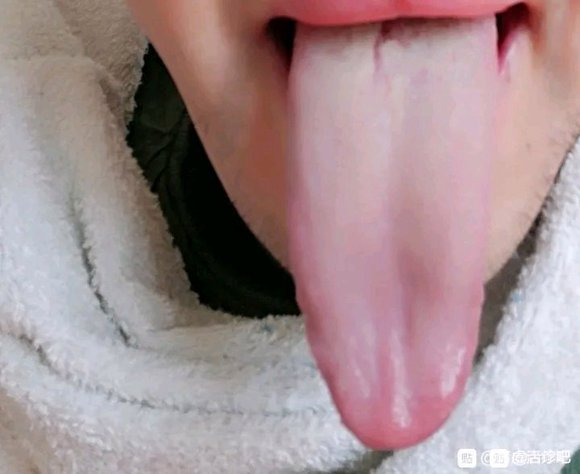chihenshe: (290, 272, 341, 418)
huangtaishe: (289, 22, 498, 450)
liewenshe: (367, 22, 390, 75)
shoushe: (289, 22, 498, 450)
